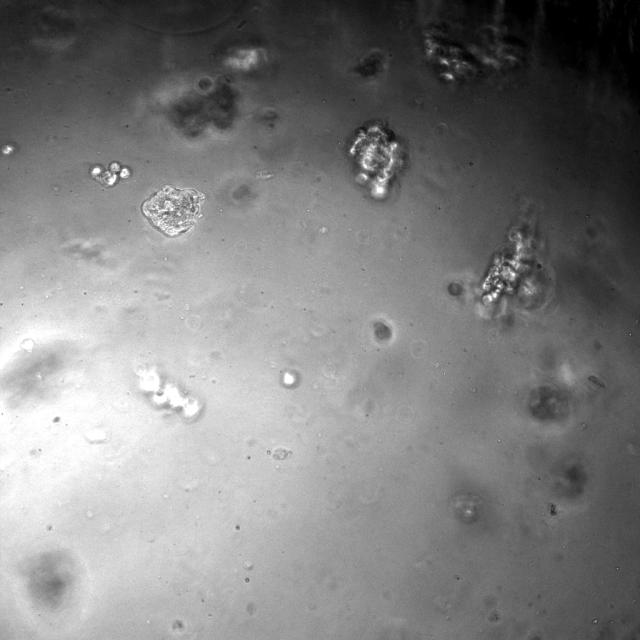organoid: (446, 198, 555, 327), (424, 23, 519, 81), (156, 76, 236, 138), (349, 120, 406, 200), (141, 184, 204, 237), (139, 369, 203, 419), (222, 41, 268, 72), (529, 385, 569, 420), (555, 462, 587, 497), (89, 161, 132, 187), (353, 49, 388, 78), (452, 495, 481, 524), (279, 368, 300, 388), (373, 321, 392, 343), (0, 141, 19, 156), (588, 376, 605, 388), (548, 503, 559, 517)
